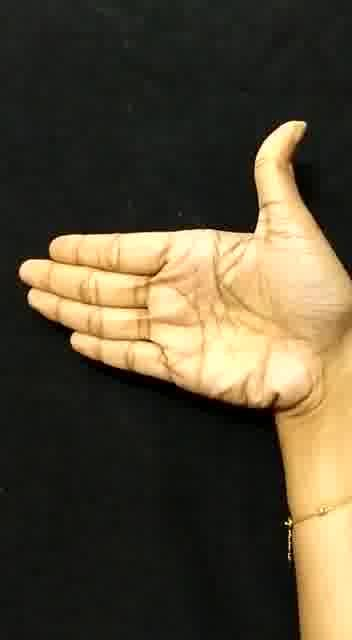ardhachandra: (3, 112, 352, 427)
